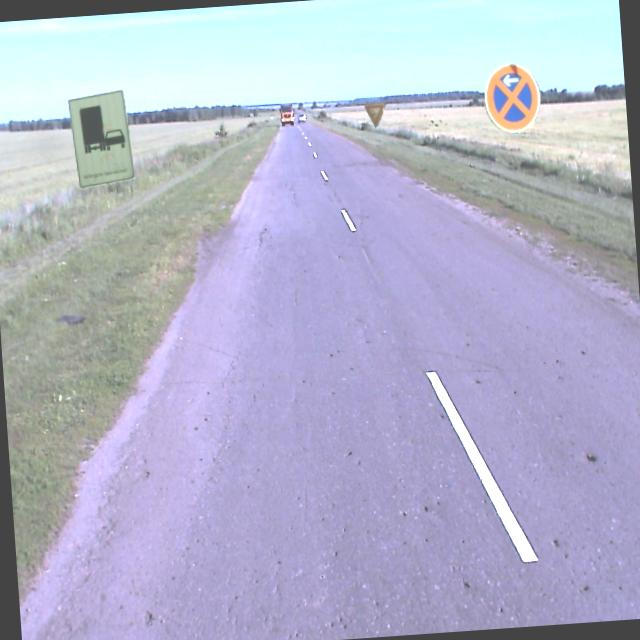road: (53, 119, 640, 640)
